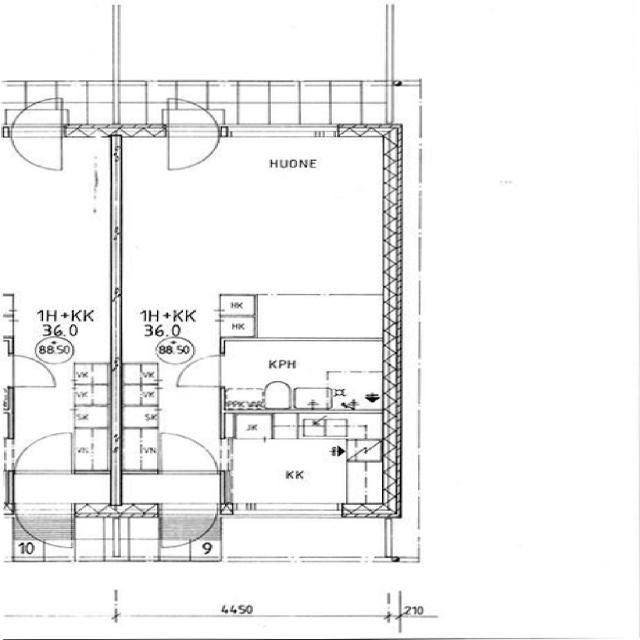door: (162, 95, 222, 173), (9, 98, 68, 177), (11, 430, 78, 474), (155, 429, 218, 475), (157, 504, 220, 549), (14, 512, 75, 556), (9, 354, 58, 391), (177, 354, 227, 389)
window: (223, 123, 363, 145), (235, 506, 348, 522), (2, 291, 21, 341), (213, 318, 224, 341)
zone: (115, 126, 398, 339), (218, 411, 395, 520), (218, 338, 392, 411), (246, 291, 390, 341)
